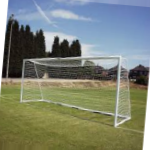goals: (19, 54, 134, 127)
